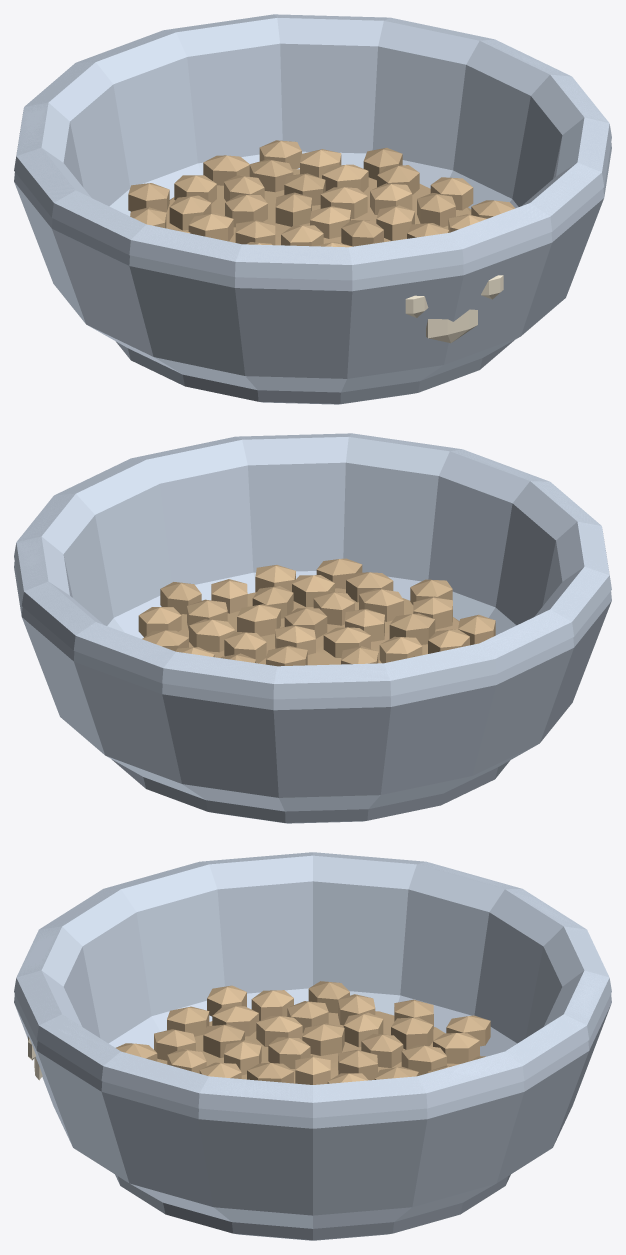
The model's file is crafted-cat-food-1-1.glb.
The picture shows the model from 3 angles, top to bottom: view 1: azimuth 30°, elevation 25°; view 2: azimuth 150°, elevation 25°; view 3: azimuth 270°, elevation 25°; orthographic projection.
Visible parts, largest first — view 1: ceramic-bowl, glazed-rim, foot-ring, ration-volume, ration-granule-2, paw-pad, ration-granule-21, ration-granule-7, ration-granule-5, ration-granule-8, ration-granule-41, ration-granule-36 (+19 smaller); view 2: ceramic-bowl, glazed-rim, foot-ring, ration-volume, ration-granule-8, ration-granule-13, ration-granule-14, ration-granule-19, ration-granule-1, ration-granule-34, ration-granule-5, ration-granule-11 (+19 smaller); view 3: ceramic-bowl, glazed-rim, foot-ring, ration-volume, ration-granule-4, ration-granule-28, ration-granule-20, ration-granule-9, ration-granule-7, ration-granule-15, ration-granule-1, ration-granule-35 (+17 smaller).
Boxes of the visible parts, bbox=[...] form: ceramic-bowl: bbox=[14, 14, 611, 392]; glazed-rim: bbox=[14, 14, 611, 280]; foot-ring: bbox=[116, 340, 514, 404]; ration-volume: bbox=[166, 169, 471, 245]; ration-granule-2: bbox=[275, 192, 311, 226]; paw-pad: bbox=[426, 309, 477, 343]; ration-granule-21: bbox=[417, 193, 455, 227]; ration-granule-7: bbox=[225, 194, 267, 227]; ration-granule-5: bbox=[320, 187, 367, 218]; ration-granule-8: bbox=[376, 205, 414, 240]; ration-granule-41: bbox=[128, 183, 169, 212]; ration-granule-36: bbox=[203, 155, 249, 185]; ceramic-bowl: bbox=[14, 433, 611, 811]; glazed-rim: bbox=[14, 433, 611, 699]; foot-ring: bbox=[111, 759, 509, 823]; ration-volume: bbox=[178, 588, 459, 665]; ration-granule-8: bbox=[237, 604, 280, 636]; ration-granule-13: bbox=[189, 619, 235, 652]; ration-granule-14: bbox=[389, 613, 435, 644]; ration-granule-19: bbox=[359, 588, 403, 621]; ration-granule-1: bbox=[323, 627, 370, 657]; ration-granule-34: bbox=[138, 607, 181, 637]; ration-granule-5: bbox=[224, 631, 266, 663]; ration-granule-11: bbox=[313, 591, 354, 625]; ceramic-bowl: bbox=[14, 852, 611, 1228]; glazed-rim: bbox=[14, 852, 611, 1117]; foot-ring: bbox=[115, 1174, 510, 1240]; ration-volume: bbox=[157, 1011, 480, 1083]; ration-granule-4: bbox=[302, 1023, 344, 1055]; ration-granule-28: bbox=[433, 1033, 479, 1063]; ration-granule-20: bbox=[391, 1017, 433, 1049]; ration-granule-9: bbox=[256, 1016, 302, 1046]; ration-granule-7: bbox=[361, 1033, 403, 1067]; ration-granule-15: bbox=[401, 1045, 446, 1075]; ration-granule-1: bbox=[268, 1037, 310, 1068]; ration-granule-35: bbox=[167, 1006, 209, 1036].
Size of the model in its own units: 0.76 by 0.265 by 0.76.
